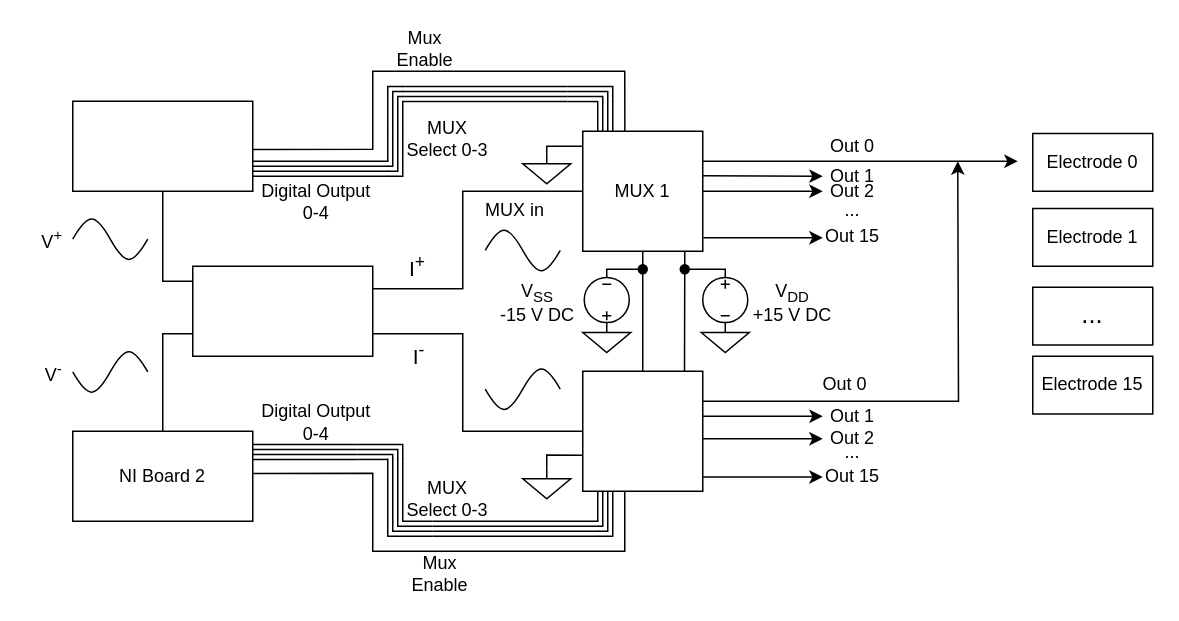
Image size: 1179x621. Some labels were removed from this diagram. Each missing label, with the centre of its shape:
"Current Source Circuit" belongs at point 282,310.
"MUX 2" belongs at point 642,430.
"NI Board 1" belongs at point 162,145.
